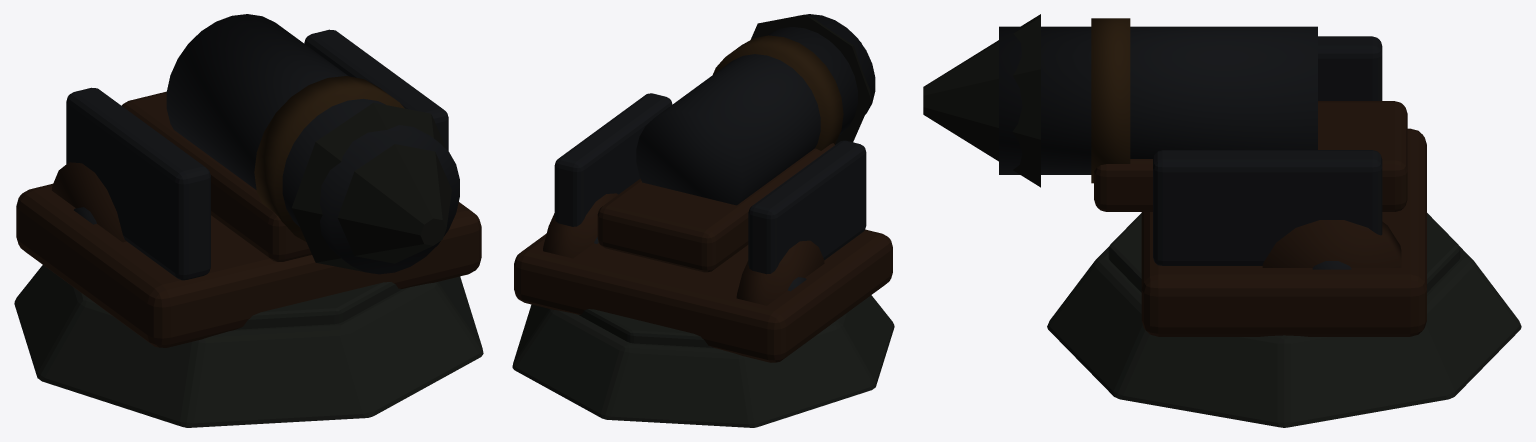
File: TowerDestroy0.obj
The picture shows the model from 3 angles, left to right: view 1: azimuth 30°, elevation 25°; view 2: azimuth 150°, elevation 25°; view 3: azimuth 270°, elevation 25°; orthographic projection. The views are drawn at different scales.
Visible parts, largest first — view 1: rough_stone_foundation_lower_course, reinforced_oak_sled, black_ram_barrel, iron_ram_cheek, stone_breaker_head, oak_ram_bed, bronze_ram_band, iron_ram_cheek.001, rough_stone_foundation_upper_course, heavy_wood_wheel; view 2: rough_stone_foundation_lower_course, reinforced_oak_sled, black_ram_barrel, oak_ram_bed, iron_ram_cheek, iron_ram_cheek.001, bronze_ram_band, heavy_wood_wheel, stone_breaker_head, rough_stone_foundation_upper_course, heavy_wood_wheel.001; view 3: rough_stone_foundation_lower_course, black_ram_barrel, reinforced_oak_sled, iron_ram_cheek.001, stone_breaker_head, oak_ram_bed, bronze_ram_band, heavy_wood_wheel.001, iron_ram_cheek, rough_stone_foundation_upper_course.
Boxes of the visible parts, x1=… form: rough_stone_foundation_lower_course: x1=14, y1=265, x2=483, y2=427; reinforced_oak_sled: x1=16, y1=183, x2=481, y2=347; black_ram_barrel: x1=166, y1=14, x2=459, y2=274; iron_ram_cheek: x1=66, y1=87, x2=210, y2=280; stone_breaker_head: x1=292, y1=102, x2=451, y2=273; oak_ram_bed: x1=121, y1=91, x2=311, y2=261; bronze_ram_band: x1=254, y1=76, x2=404, y2=241; iron_ram_cheek.001: x1=304, y1=29, x2=448, y2=150; rough_stone_foundation_upper_course: x1=236, y1=282, x2=402, y2=329; heavy_wood_wheel: x1=52, y1=162, x2=126, y2=242; rough_stone_foundation_lower_course: x1=512, y1=295, x2=894, y2=427; reinforced_oak_sled: x1=514, y1=229, x2=892, y2=362; black_ram_barrel: x1=636, y1=14, x2=875, y2=205; oak_ram_bed: x1=597, y1=143, x2=834, y2=272; iron_ram_cheek: x1=748, y1=140, x2=866, y2=274; iron_ram_cheek.001: x1=554, y1=93, x2=672, y2=226; bronze_ram_band: x1=713, y1=35, x2=843, y2=150; heavy_wood_wheel: x1=736, y1=240, x2=824, y2=305; stone_breaker_head: x1=750, y1=14, x2=871, y2=144; rough_stone_foundation_upper_course: x1=578, y1=309, x2=713, y2=347; heavy_wood_wheel.001: x1=543, y1=193, x2=618, y2=258; rough_stone_foundation_lower_course: x1=1047, y1=246, x2=1521, y2=427; black_ram_barrel: x1=999, y1=26, x2=1317, y2=174; reinforced_oak_sled: x1=1141, y1=128, x2=1426, y2=336; iron_ram_cheek.001: x1=1153, y1=150, x2=1382, y2=265; stone_breaker_head: x1=923, y1=14, x2=1040, y2=187; oak_ram_bed: x1=1094, y1=101, x2=1407, y2=211; bronze_ram_band: x1=1091, y1=18, x2=1130, y2=183; heavy_wood_wheel.001: x1=1262, y1=220, x2=1401, y2=267; iron_ram_cheek: x1=1318, y1=36, x2=1382, y2=100; rough_stone_foundation_upper_course: x1=1108, y1=213, x2=1460, y2=292.
Bounding box in the file's own units: 1.7 × 1.23 × 2.14.
